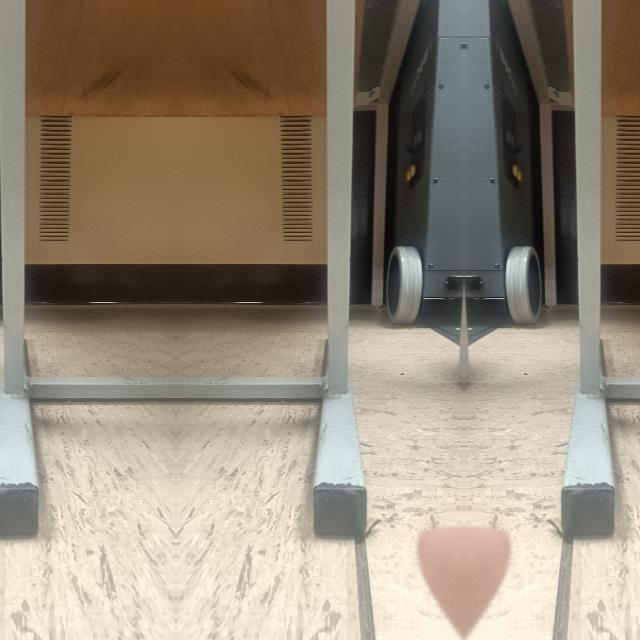obstacle: (301, 219, 367, 537), (561, 219, 627, 537), (0, 219, 49, 537)
